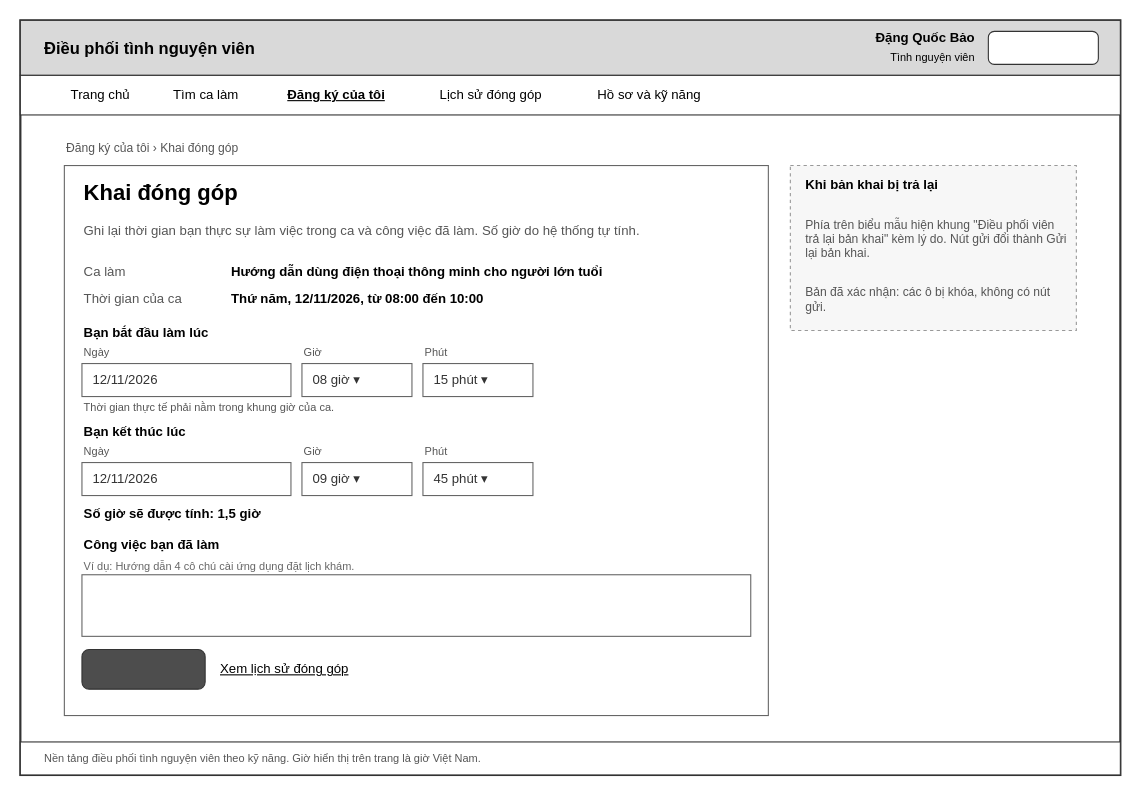
Some shapes in this 1140 by 794 pixel diagram are drawn without their labels. The shapes that lost their labels are listed below. From the top down, each one's box as (x1, y1, x2, y2) in pixels, then its label:
(987, 30, 1098, 64): Đăng xuất
(81, 574, 751, 636): Hướng dẫn 4 cô chú cài ứng dụng đặt lịch khám và đặt thử một lịch.
(81, 648, 205, 689): Gửi bản khai
